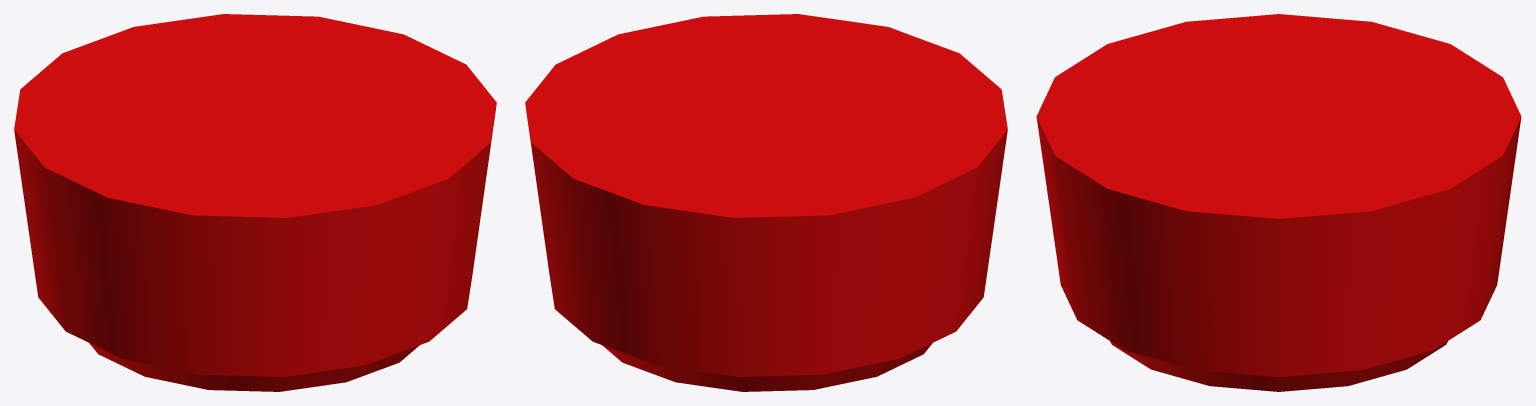
Rendered from ScoreboardCollider.fbx.
The picture shows the model from 3 angles, left to right: view 1: azimuth 30°, elevation 25°; view 2: azimuth 150°, elevation 25°; view 3: azimuth 270°, elevation 25°; orthographic projection.
Visible parts, largest first — view 1: ScoreboardCollision; view 2: ScoreboardCollision; view 3: ScoreboardCollision.
Boxes of the visible parts, x1=… form: ScoreboardCollision: x1=14, y1=14, x2=496, y2=391; ScoreboardCollision: x1=525, y1=14, x2=1007, y2=391; ScoreboardCollision: x1=1036, y1=14, x2=1521, y2=391.
Bounding box in the file's own units: 1630 × 738 × 1630.
